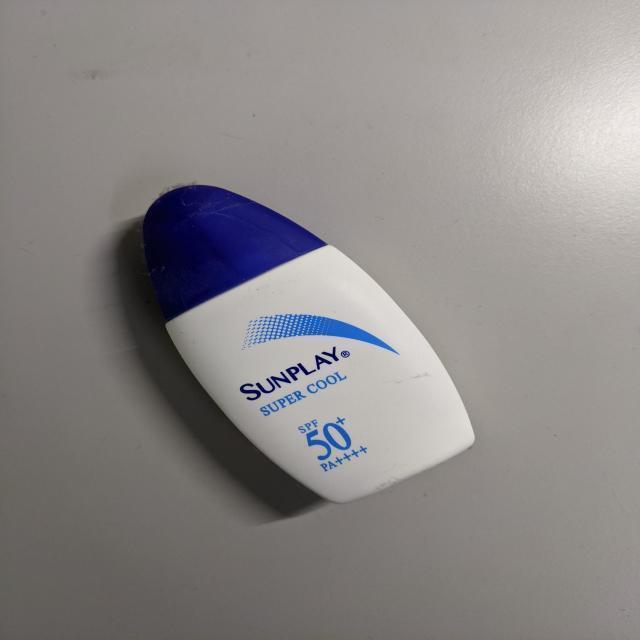Plastic: (140, 186, 480, 505)
